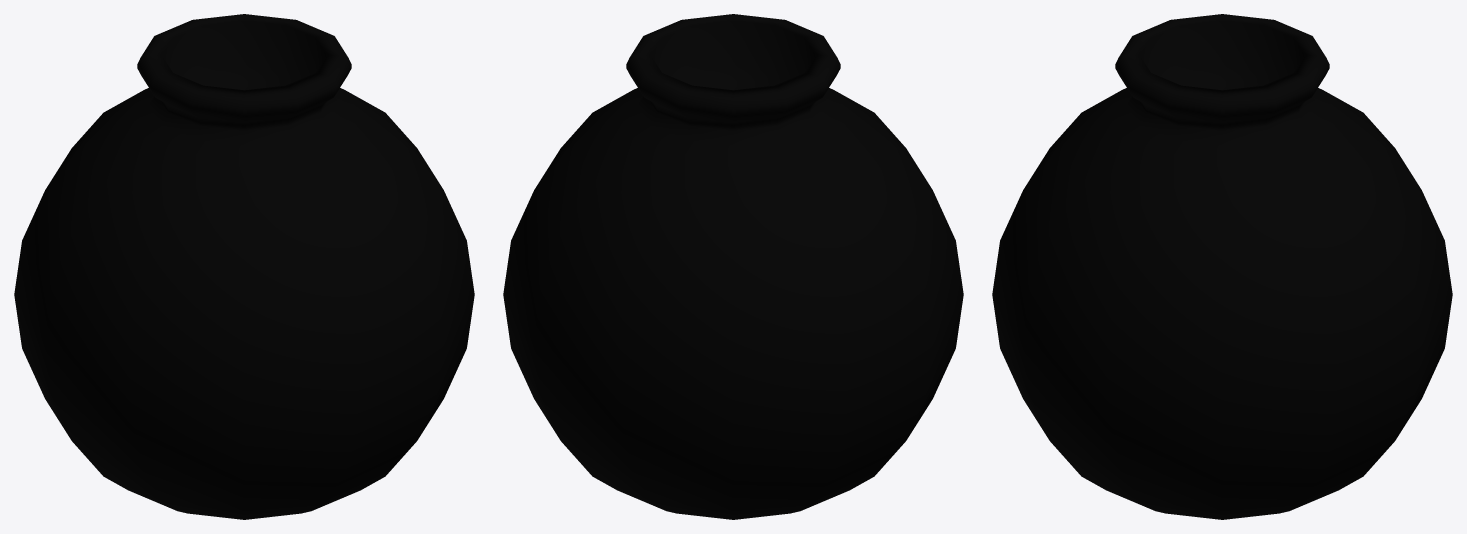
The model's file is potion_empty.fbx.
3 views of the same model, side by side, from view 1: azimuth 30°, elevation 25°; view 2: azimuth 150°, elevation 25°; view 3: azimuth 270°, elevation 25° (orthographic).
Visible parts, largest first — view 1: pSphere1; view 2: pSphere1; view 3: pSphere1.
Boxes of the visible parts, x1,y1,x2,y2 form: pSphere1: (14, 14, 474, 519); pSphere1: (503, 14, 963, 519); pSphere1: (992, 14, 1452, 519).
Size of the model in its own units: 2 by 2.01 by 2.
